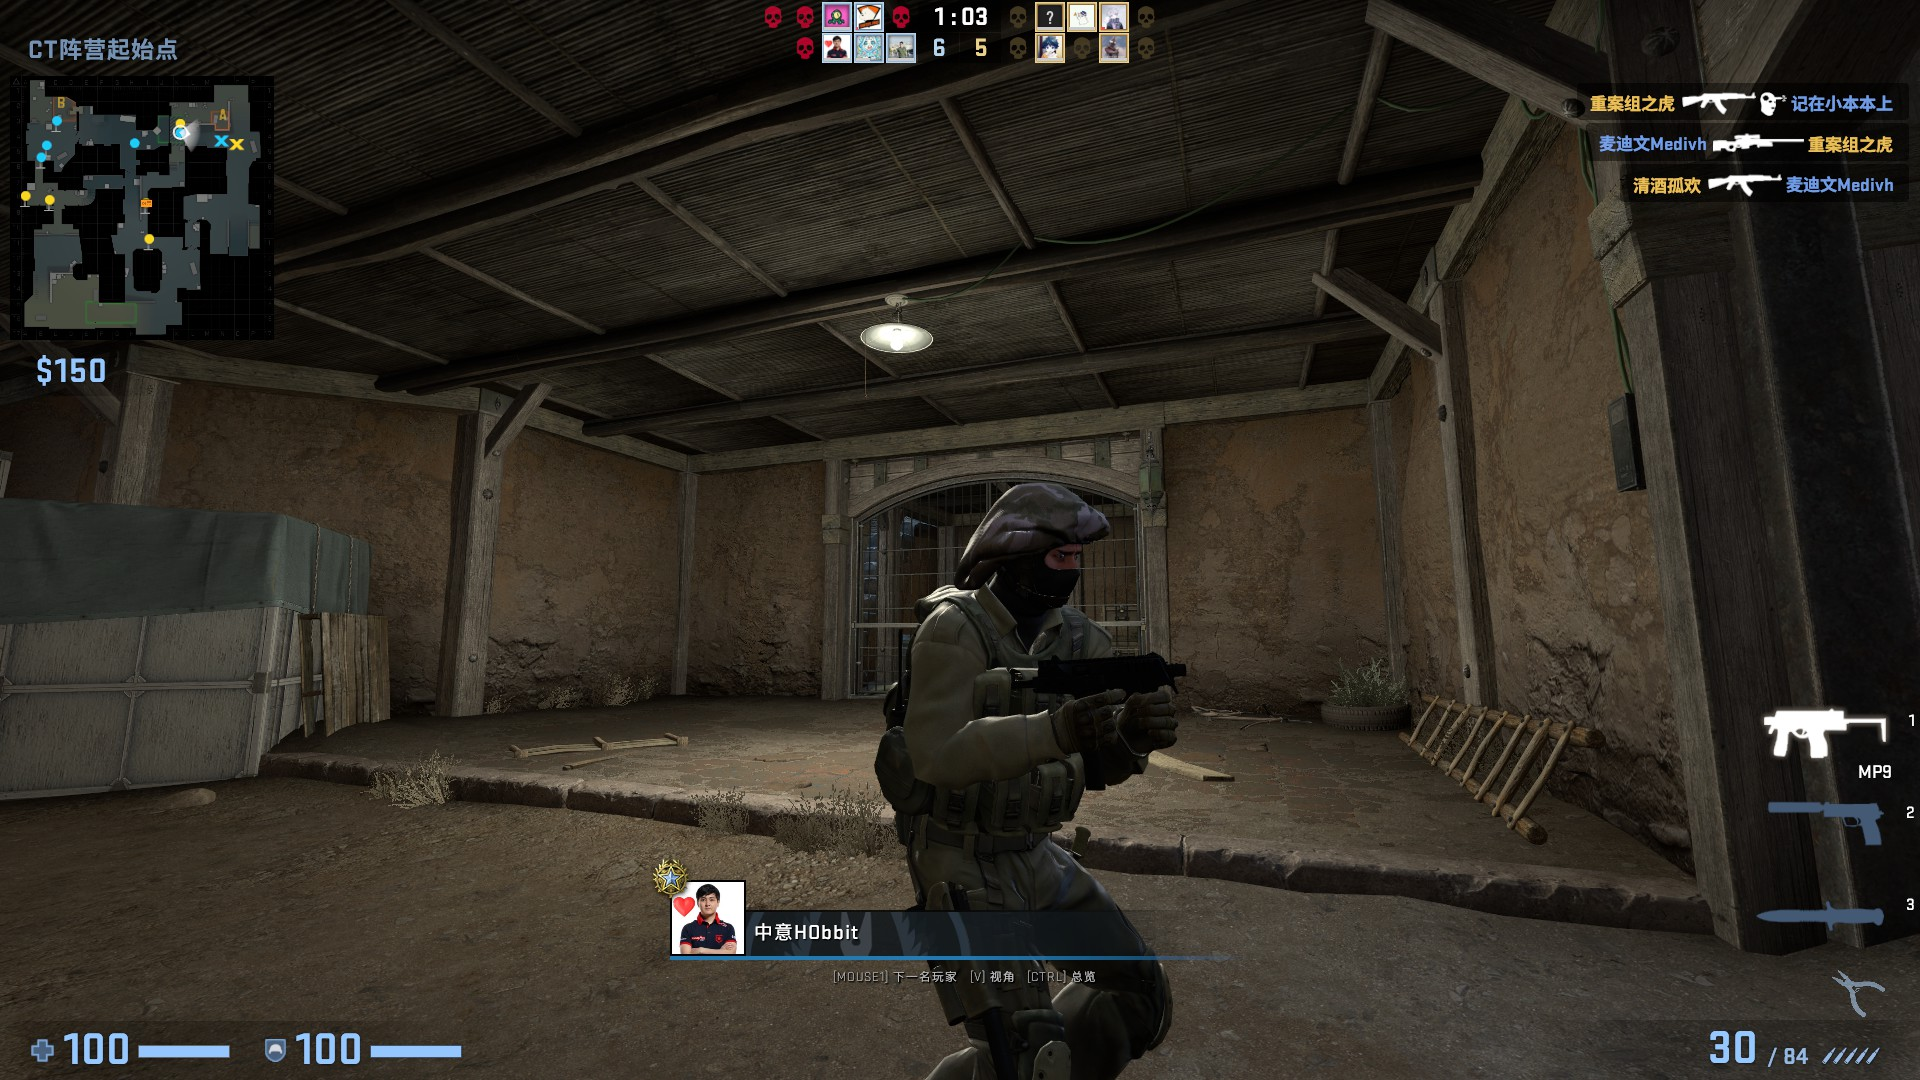head: (950, 479, 1110, 612)
